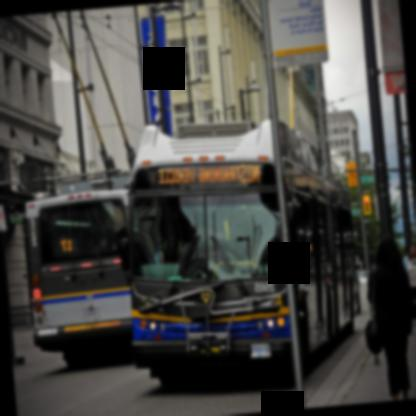handbag: (364, 305, 383, 354)
